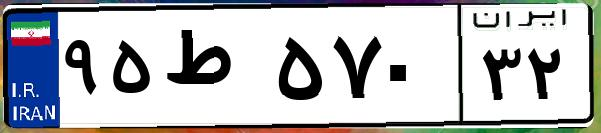0: (385, 28, 445, 110)
2: (525, 38, 570, 115)
3: (475, 38, 525, 113)
5: (270, 28, 330, 110), (110, 28, 158, 98)
7: (330, 28, 385, 110)
9: (57, 26, 110, 100)
ط: (158, 20, 270, 120)
